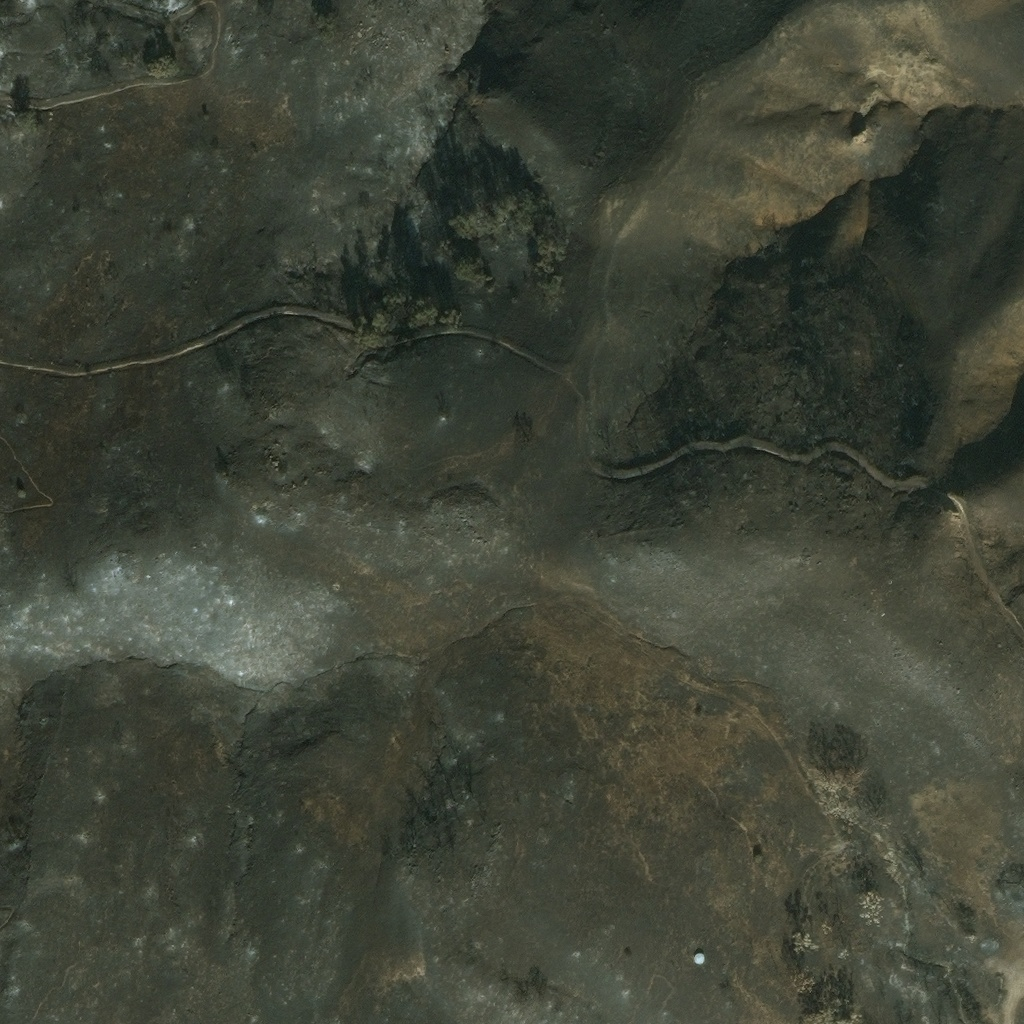0 no-damage: (692, 951, 705, 965)
